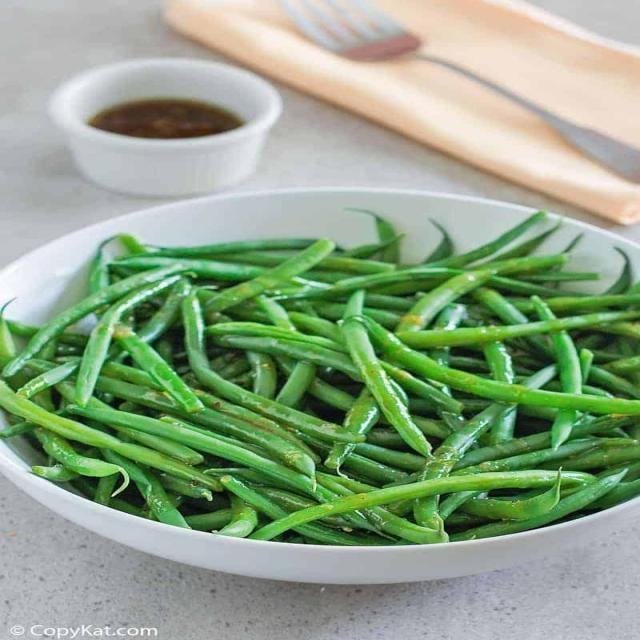Beans: (0, 194, 639, 558)
